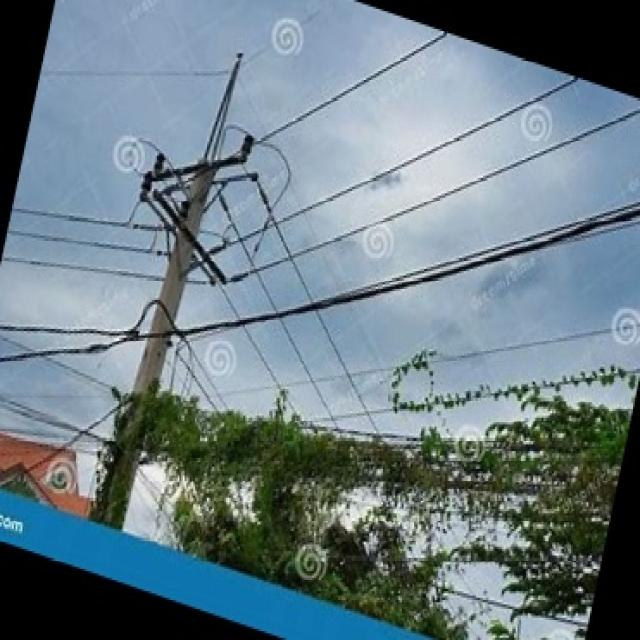critical vegetation: (138, 358, 601, 528)
